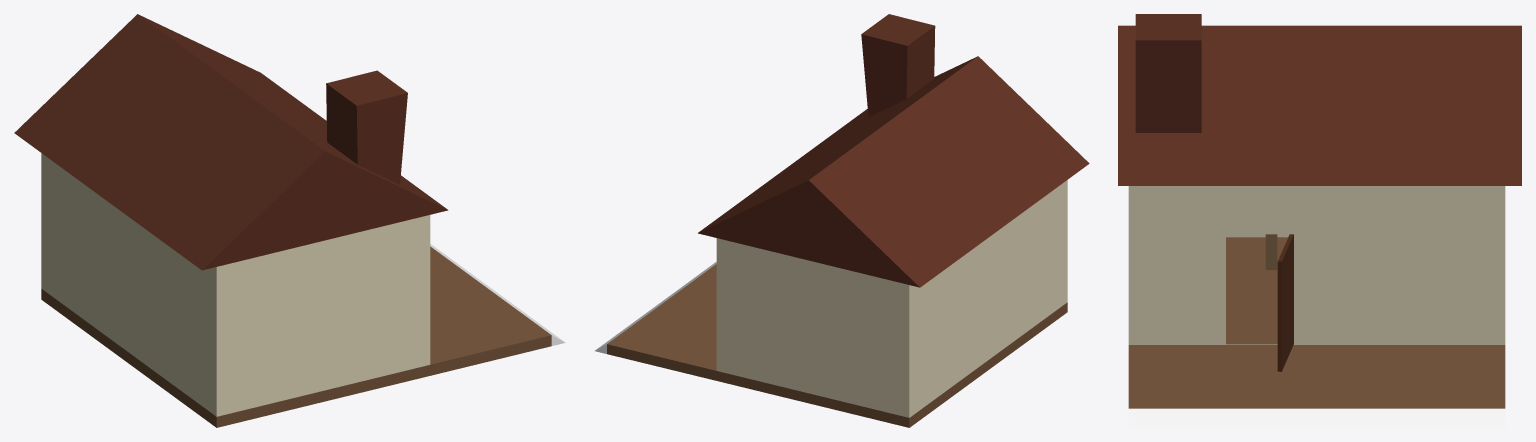
The model's file is HouseNew.fbx.
The picture shows the model from 3 angles, left to right: view 1: azimuth 30°, elevation 25°; view 2: azimuth 150°, elevation 25°; view 3: azimuth 270°, elevation 25°; orthographic projection. The views are drawn at different scales.
Parts seen in each view (by area): view 1: Cube, Cube.006; view 2: Cube, Cube.006; view 3: Cube, Cube.006, Cube.001, Cube.004.
Boxes of the visible parts, x1,y1,x2,y2 form: Cube: (41, 153, 565, 427); Cube.006: (14, 14, 448, 270); Cube: (595, 180, 1067, 427); Cube.006: (698, 14, 1089, 287); Cube: (1128, 186, 1505, 427); Cube.006: (1118, 14, 1521, 185); Cube.001: (1277, 234, 1293, 371); Cube.004: (1265, 234, 1277, 269).
Size of the model in its own units: 5264 by 3891 by 4644.
